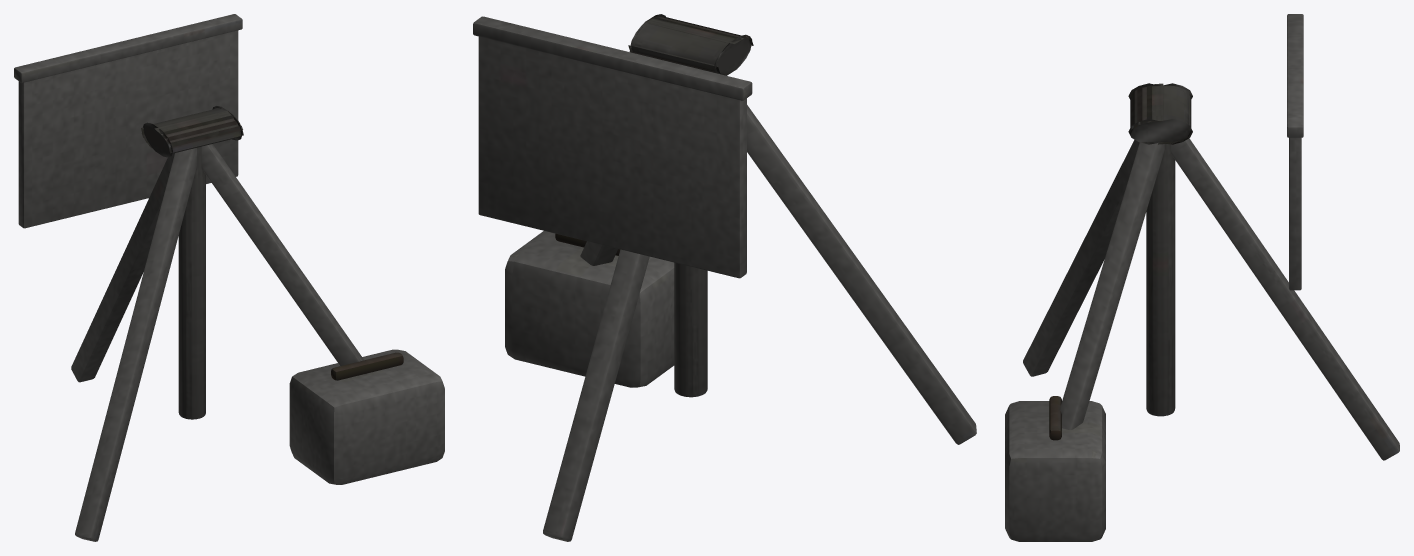
File: levy_impulse_cannon_base.glb
The picture shows the model from 3 angles, left to right: view 1: azimuth 30°, elevation 25°; view 2: azimuth 150°, elevation 25°; view 3: azimuth 270°, elevation 25°; orthographic projection. The views are drawn at different scales.
Visible parts, largest first — view 1: levy_impulse_cannon_base; view 2: levy_impulse_cannon_base; view 3: levy_impulse_cannon_base.
Boxes of the visible parts, <box> form: levy_impulse_cannon_base: <box>14,14,444,541</box>; levy_impulse_cannon_base: <box>473,14,976,541</box>; levy_impulse_cannon_base: <box>1005,14,1399,541</box>.
Bounding box in the file's own units: 1.04 × 1.02 × 0.9384.
1 material, 1 textured.
